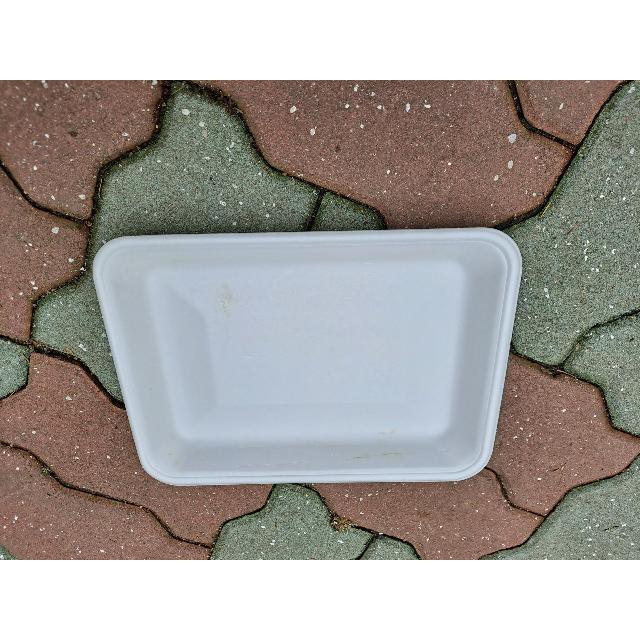Recipiente plastico: (94, 228, 521, 485)
